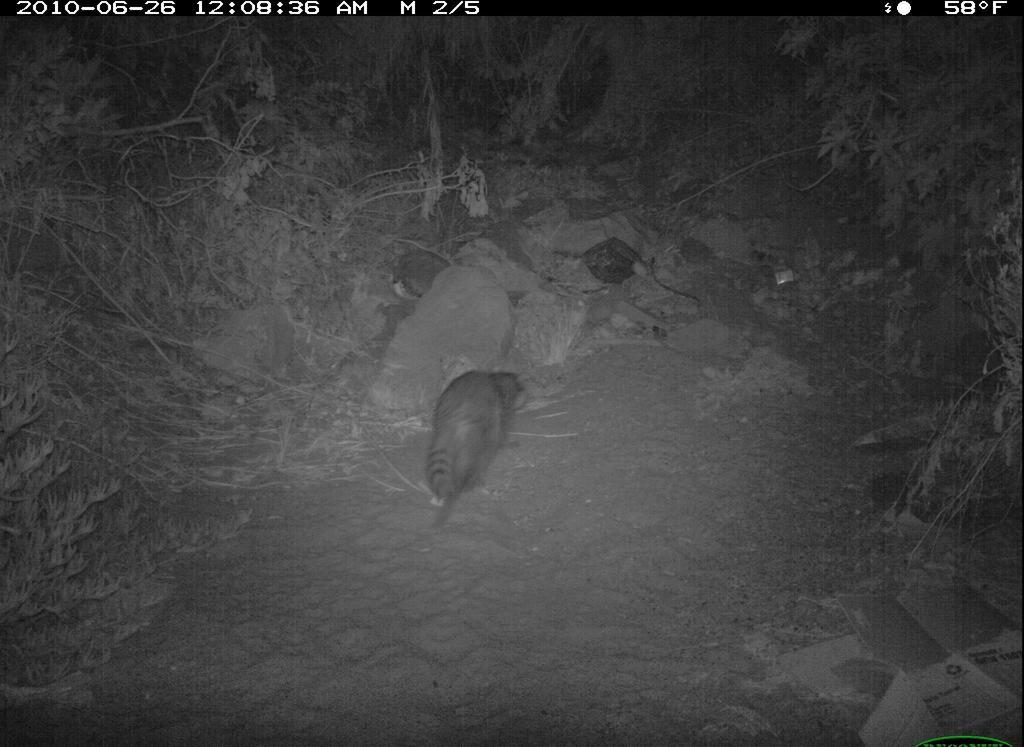raccoon: (414, 364, 538, 538)
